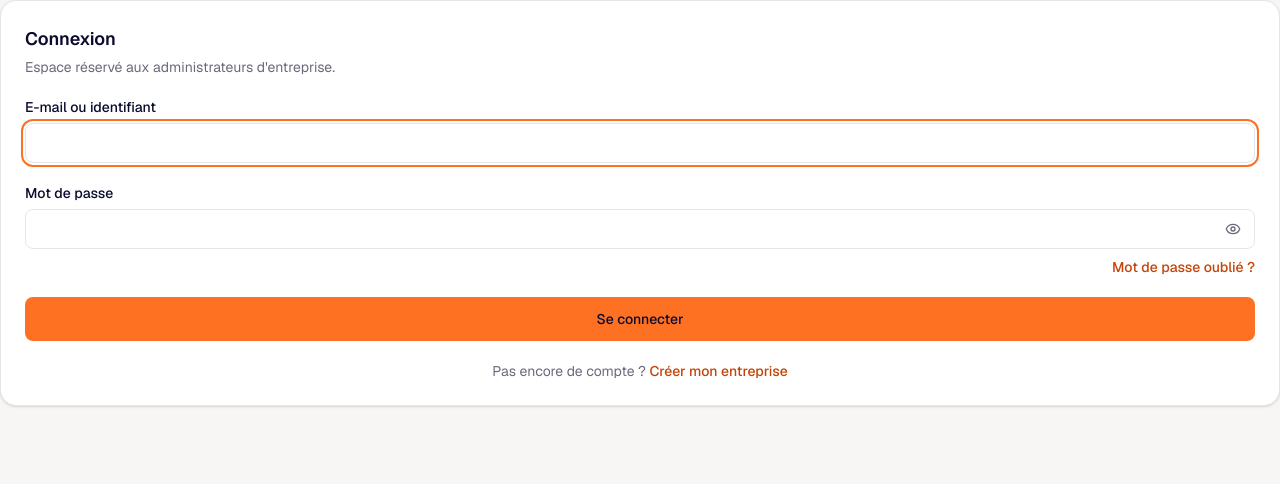
Test case: LoginForm › n'affiche aucune reprise pour un simple mot de passe erroné
Type "chef@transport.example" into the field labelled "E-mail ou identifiant".
click(640, 143); type("chef@transport.example")  # box [25, 123, 1255, 163]
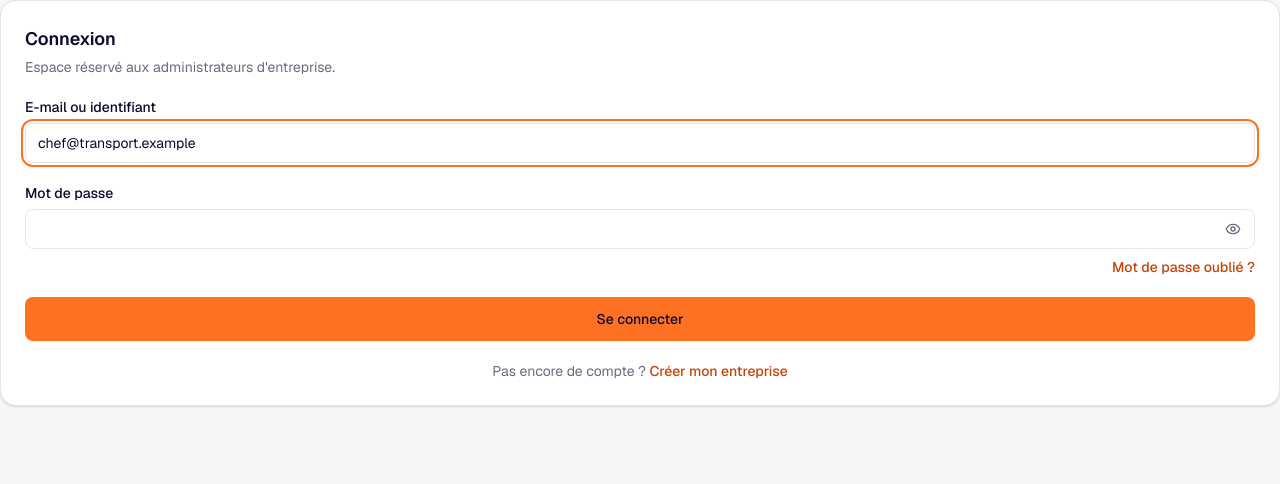
Type "Transport-2026!" into the password field labelled "Mot de passe".
click(640, 229); type("Transport-2026!")  # box [25, 209, 1255, 249]
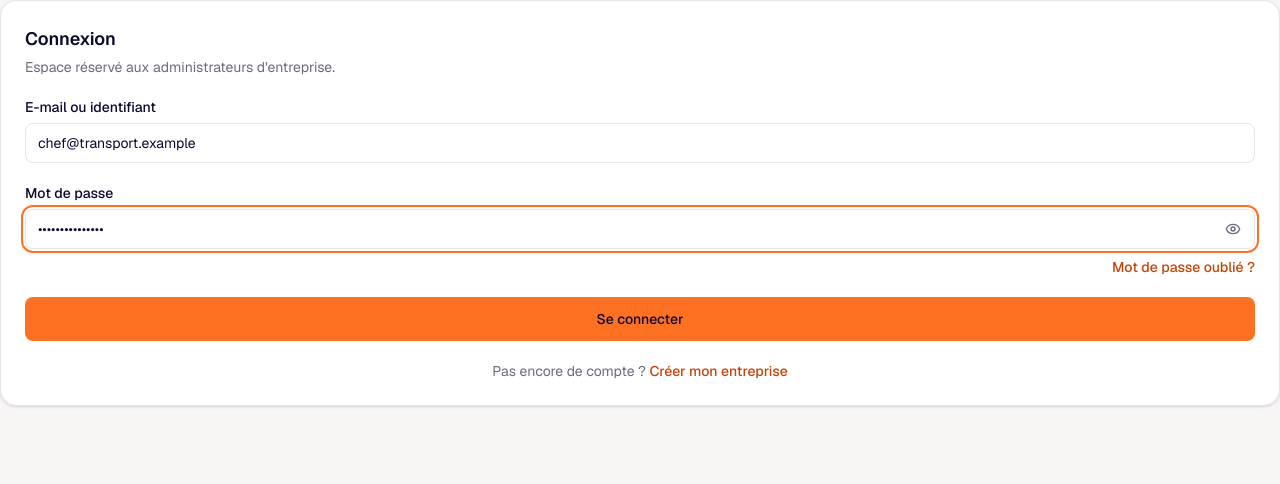
Click the button "Se connecter".
click(640, 319)  # box [25, 297, 1255, 341]
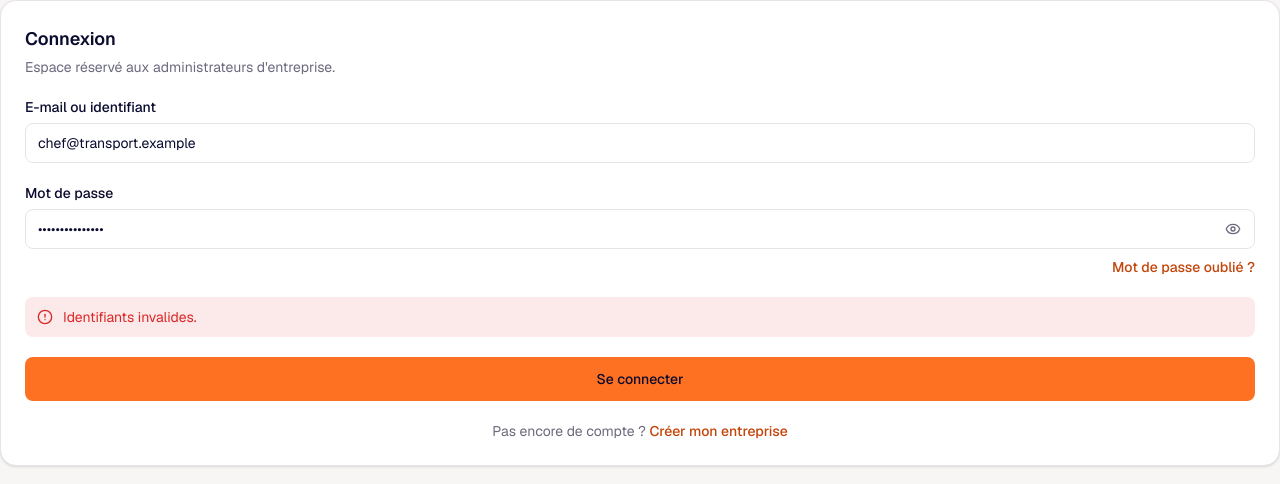
Check: the text "Identifiants invalides." is shown, box [63, 307, 196, 327]
